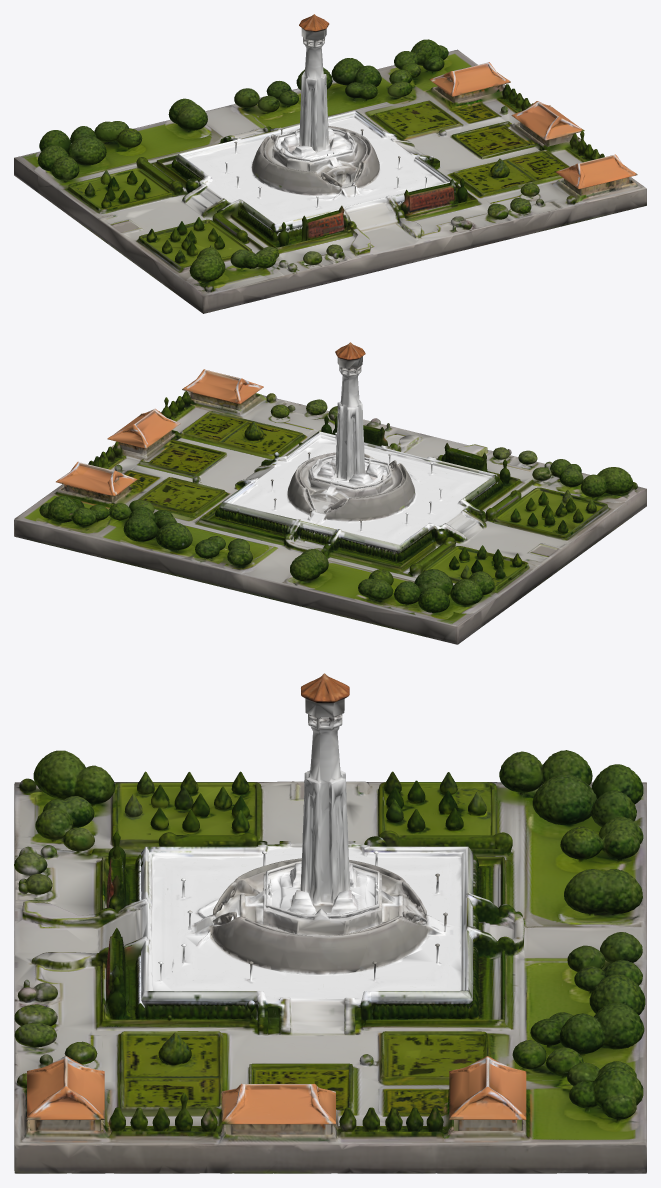
The model's file is diadaotamgiacsat-v1.glb.
3 renders of one model, top to bottom at view 1: azimuth 30°, elevation 25°; view 2: azimuth 150°, elevation 25°; view 3: azimuth 270°, elevation 25°, orthographic. The views are drawn at different scales.
Parts seen in each view (by area): view 1: node_0; view 2: node_0; view 3: node_0.
Boxes of the visible parts, x1,y1,x2,y2 form: node_0: [14, 14, 646, 313]; node_0: [14, 342, 646, 644]; node_0: [14, 673, 646, 1173].
Bounding box in the file's own units: 0.921 × 0.3617 × 0.681.
1 material, 1 textured.
